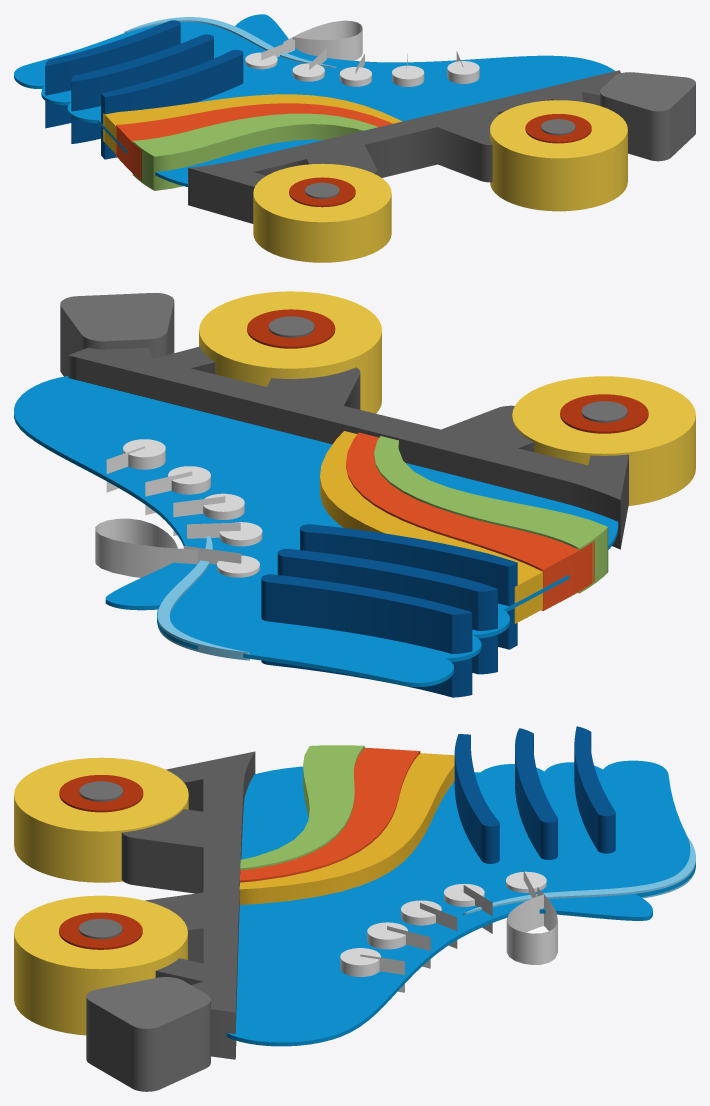
Rendered from emoji_u1f6fc.glb.
The picture shows the model from 3 angles, top to bottom: view 1: azimuth 30°, elevation 25°; view 2: azimuth 150°, elevation 25°; view 3: azimuth 270°, elevation 25°; orthographic projection. The views are drawn at different scales.
Parts seen in each view (by area): view 1: emoji_u1f6fc; view 2: emoji_u1f6fc; view 3: emoji_u1f6fc.
Part boxes in pixels (x1,y1,x2,y2): emoji_u1f6fc: (14, 14, 695, 262); emoji_u1f6fc: (14, 291, 695, 697); emoji_u1f6fc: (14, 726, 695, 1091).
Size of the model in its own units: 0.0325 by 0.004 by 0.0314.
